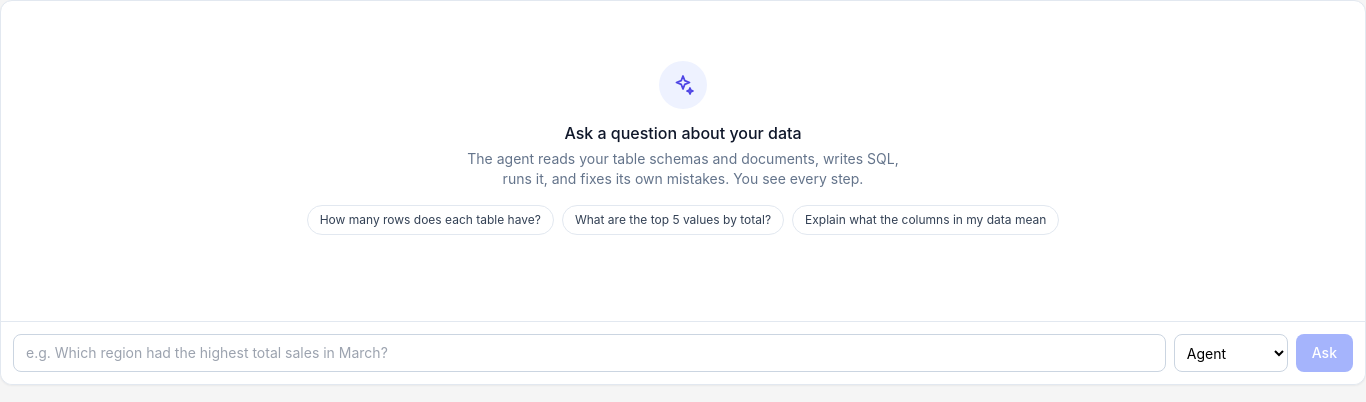
Test case: shows agent errors
Type "Anything?" into the field named "Question".
click(589, 353); type("Anything?")  # box [13,334,1166,372]
Then press Enter
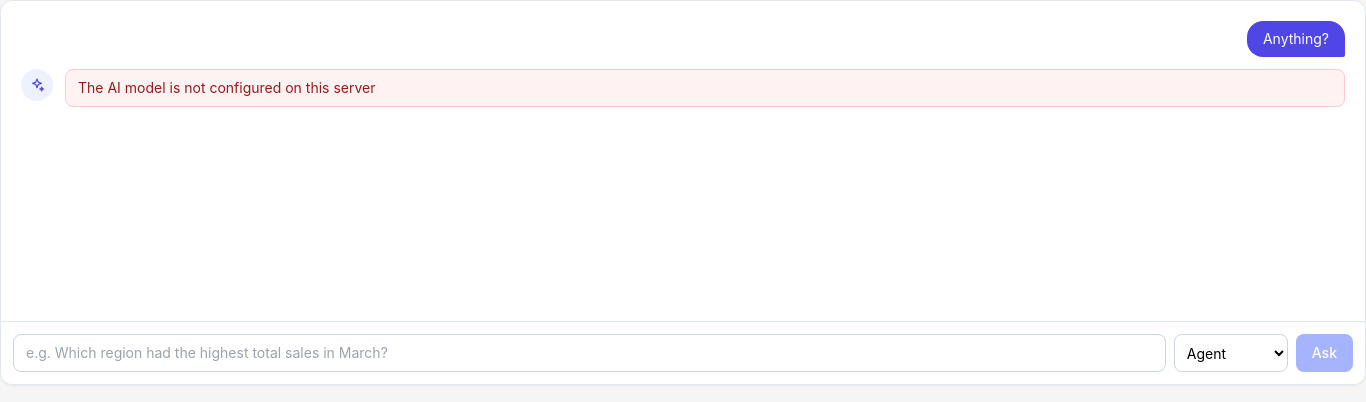
Expected: the text "The AI model is not configured on this server" is shown, [65,69,1345,107]
